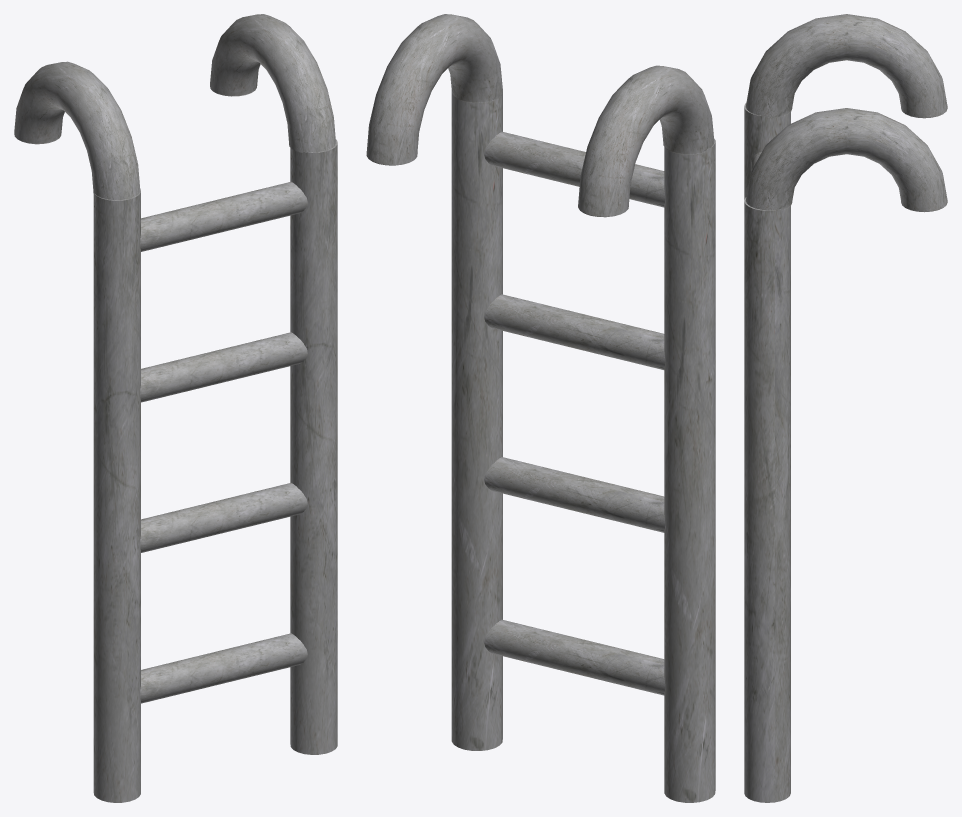
Rendered from Leiter.fbx.
3 renders of one model, left to right at view 1: azimuth 30°, elevation 25°; view 2: azimuth 150°, elevation 25°; view 3: azimuth 270°, elevation 25°, orthographic. The views are drawn at different scales.
Visible parts, largest first — view 1: pCylinder1 (×2), pCylinder3, pTorus2 (×2), pCylinder6, pCylinder5, pCylinder4; view 2: pCylinder1 (×2), pCylinder3, pTorus2 (×2), pCylinder5, pCylinder4, pCylinder6; view 3: pCylinder1, pTorus2 (×2), pCylinder3.
Boxes of the visible parts, x1,y1,x2,y2 form: pCylinder1 (×2): (140, 139, 337, 754); pCylinder3: (93, 189, 140, 802); pTorus2 (×2): (14, 14, 335, 200); pCylinder6: (140, 181, 307, 251); pCylinder5: (140, 332, 307, 402); pCylinder4: (140, 483, 307, 552); pCylinder1 (×2): (451, 88, 665, 750); pCylinder3: (664, 138, 715, 802); pTorus2 (×2): (366, 14, 714, 217); pCylinder5: (484, 294, 665, 369); pCylinder4: (484, 457, 665, 532); pCylinder6: (484, 131, 665, 207); pCylinder1: (744, 197, 790, 802); pTorus2 (×2): (746, 14, 947, 212); pCylinder3: (744, 102, 790, 199).
Size of the model in its own units: 4.14 by 11.53 by 3.12.
Materials: 1 (1 with a texture image).
